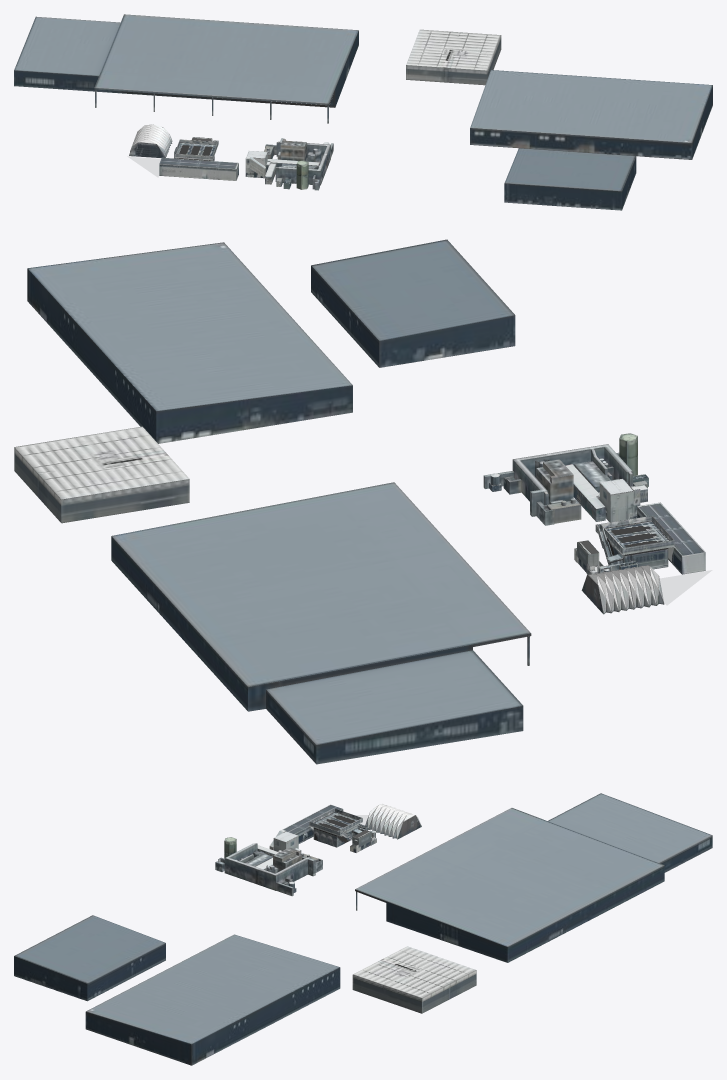
The picture shows the model from 3 angles, top to bottom: view 1: azimuth 30°, elevation 25°; view 2: azimuth 150°, elevation 25°; view 3: azimuth 270°, elevation 25°; orthographic projection. The views are drawn at different scales.
Parts seen in each view (by area): view 1: Buildings_建物パビリオン; view 2: Buildings_建物パビリオン; view 3: Buildings_建物パビリオン.
Part boxes in pixels (x1,y1,x2,y2): Buildings_建物パビリオン: [14, 14, 712, 210]; Buildings_建物パビリオン: [14, 239, 712, 764]; Buildings_建物パビリオン: [14, 793, 712, 1065].
Size of the model in its own units: 178 by 8.64 by 204.
16 materials, 15 textured.
